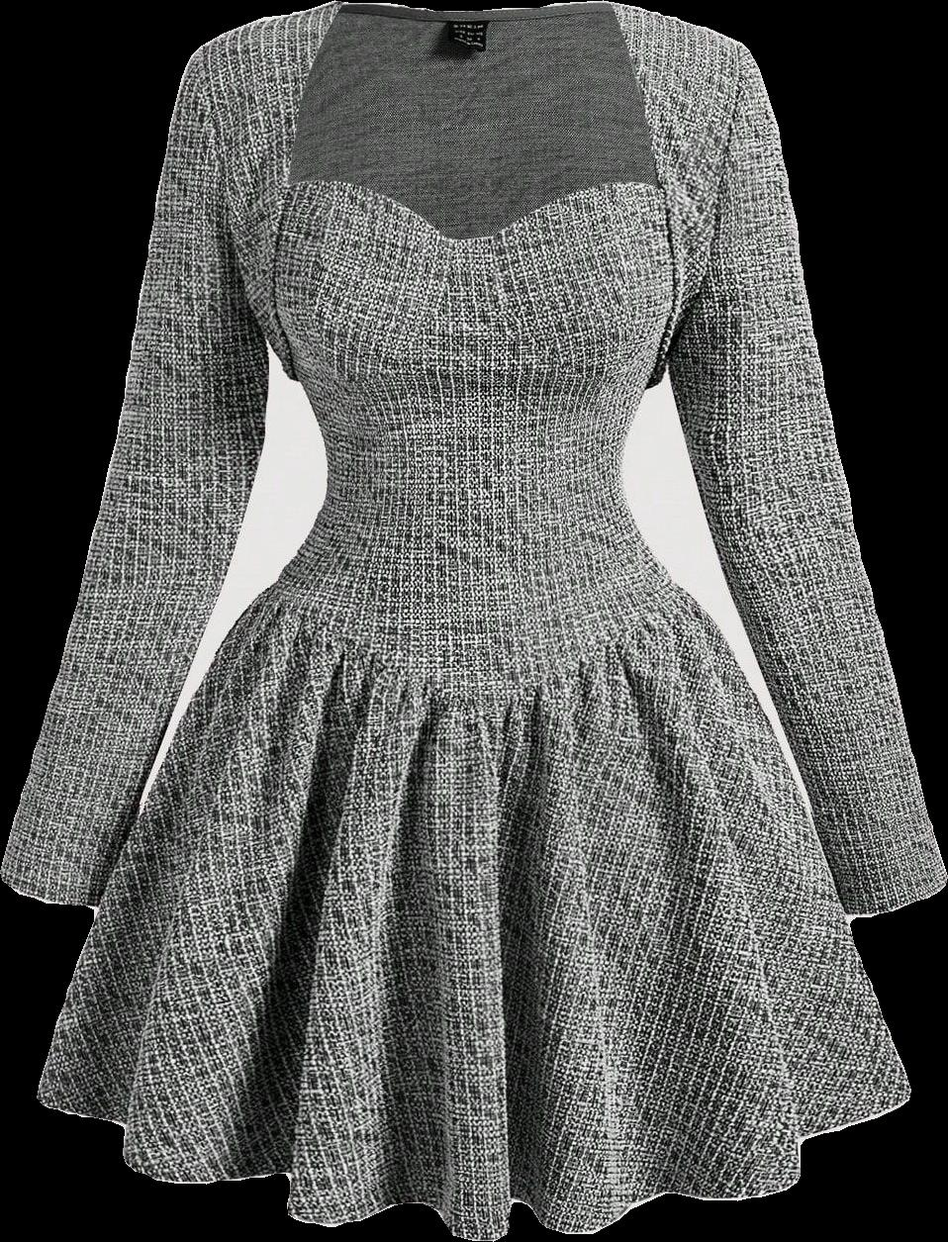Bodice: (193, 0, 745, 723)
Hemline: (30, 1081, 917, 1241)
Neckline: (278, 0, 669, 247)
Skirt: (37, 584, 910, 1241)
Sleeve: (668, 48, 947, 916), (0, 54, 268, 905)
Sleeveline: (668, 46, 756, 368), (191, 50, 271, 343)
Waistline: (259, 586, 681, 739)
